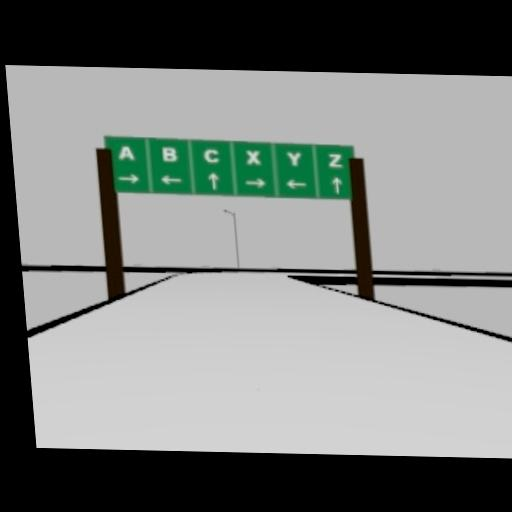A: (115, 142, 135, 159)
B: (160, 145, 176, 160)
C: (203, 148, 219, 161)
Left: (159, 173, 181, 184), (285, 177, 307, 188)
Right: (116, 172, 140, 183), (243, 176, 265, 187)
Straight: (207, 171, 220, 188), (331, 175, 342, 192)
X: (244, 149, 260, 164)
Y: (286, 150, 302, 165)
Z: (327, 153, 343, 166)
